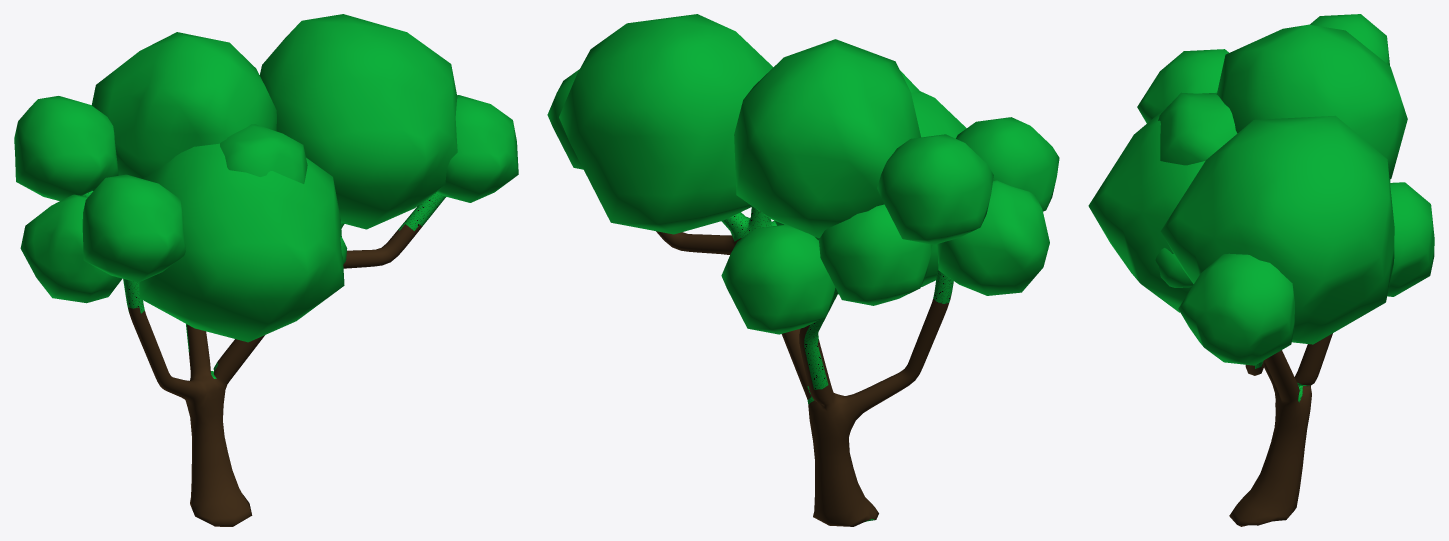
Rendered from tree.fbx.
The picture shows the model from 3 angles, left to right: view 1: azimuth 30°, elevation 25°; view 2: azimuth 150°, elevation 25°; view 3: azimuth 270°, elevation 25°; orthographic projection. The views are drawn at different scales.
Visible parts, largest first — view 1: tree; view 2: tree; view 3: tree.
Part boxes in pixels (left/top/right/bottom): tree: left=14, top=14, right=518, bottom=526; tree: left=547, top=14, right=1059, bottom=526; tree: left=1088, top=14, right=1434, bottom=526.
Size of the model in its own units: 992 by 943 by 603.
1 material, 1 textured.
